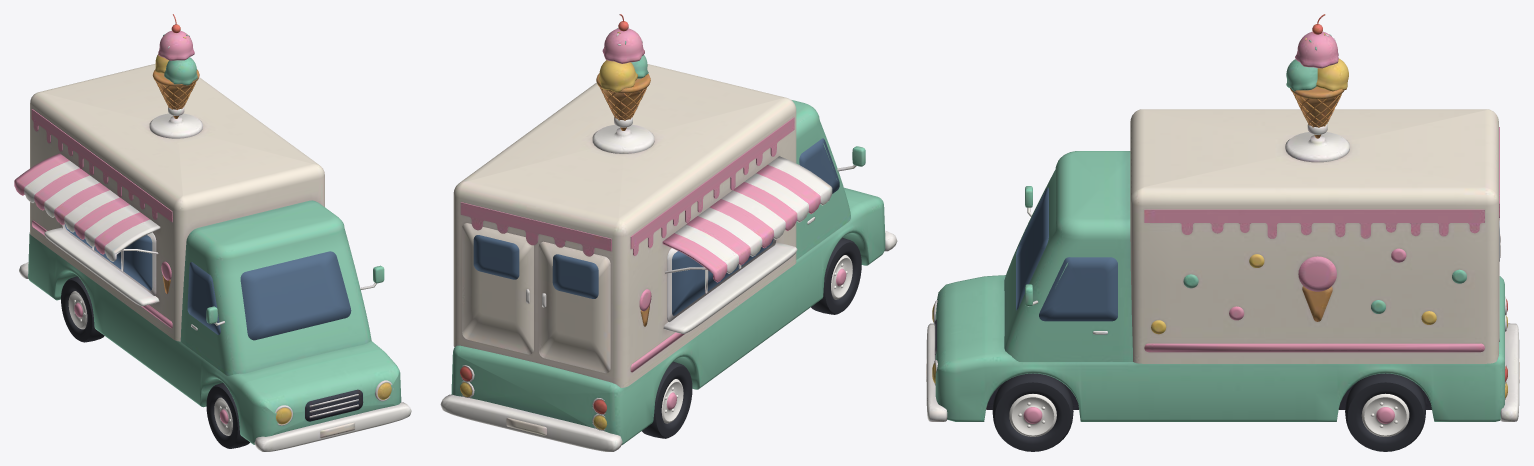
File: ice-cream-truck.glb
The picture shows the model from 3 angles, left to right: view 1: azimuth 30°, elevation 25°; view 2: azimuth 150°, elevation 25°; view 3: azimuth 270°, elevation 25°; orthographic projection. The views are drawn at different scales.
Parts seen in each view (by area): view 1: ice-cream-truck_body, ice-cream-truck_windows, ice-cream-truck_wheel_fr, ice-cream-truck_wheel_rr; view 2: ice-cream-truck_body, ice-cream-truck_rear_windows, ice-cream-truck_windows, ice-cream-truck_wheel_rr, ice-cream-truck_wheel_fr; view 3: ice-cream-truck_body, ice-cream-truck_windows, ice-cream-truck_wheel_rl, ice-cream-truck_wheel_fl.
Part boxes in pixels (x1,y1,x2,y2): ice-cream-truck_body: [14, 14, 411, 451]; ice-cream-truck_windows: [65, 224, 351, 340]; ice-cream-truck_wheel_fr: [206, 383, 249, 448]; ice-cream-truck_wheel_rr: [61, 276, 104, 342]; ice-cream-truck_body: [440, 14, 897, 451]; ice-cream-truck_rear_windows: [473, 235, 598, 298]; ice-cream-truck_windows: [672, 138, 839, 315]; ice-cream-truck_wheel_rr: [642, 361, 692, 438]; ice-cream-truck_wheel_fr: [811, 237, 861, 314]; ice-cream-truck_body: [926, 14, 1519, 421]; ice-cream-truck_windows: [1016, 187, 1117, 321]; ice-cream-truck_wheel_rl: [1345, 373, 1425, 451]; ice-cream-truck_wheel_fl: [992, 373, 1073, 451].
Size of the model in its own units: 2.88 by 4.33 by 5.86.
15 materials, 1 textured.
